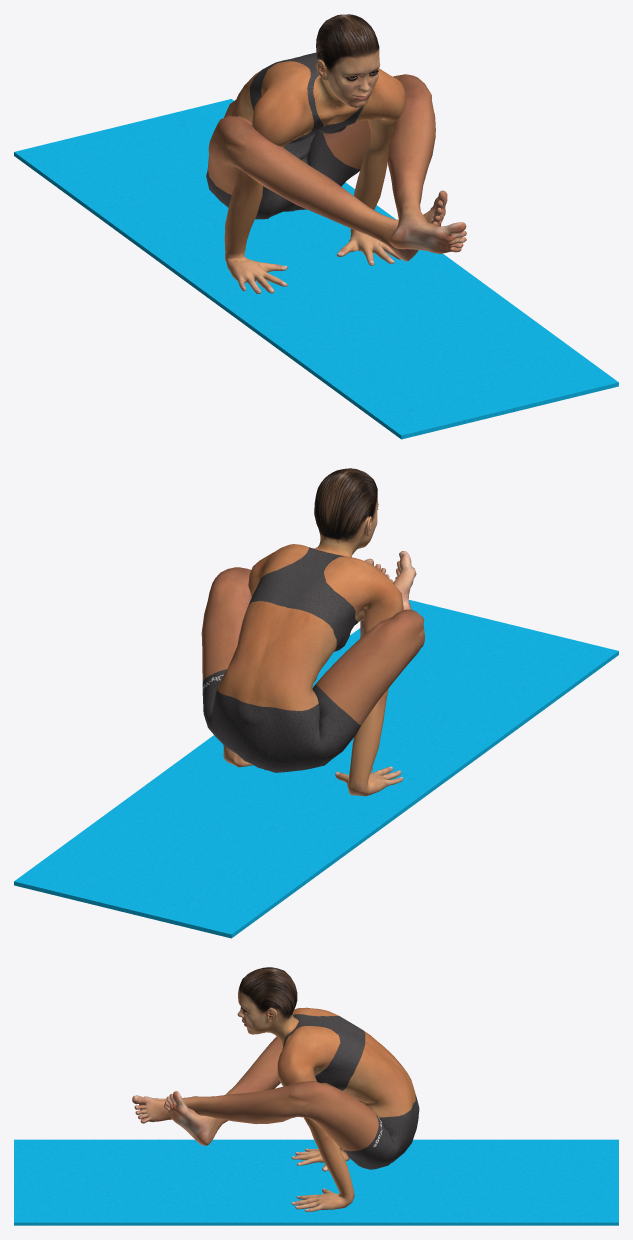
The model's file is bhujapidasana.glb.
3 renders of one model, top to bottom at view 1: azimuth 30°, elevation 25°; view 2: azimuth 150°, elevation 25°; view 3: azimuth 270°, elevation 25°, orthographic. The views are drawn at different scales.
Parts seen in each view (by area): view 1: Mat-one-piece_jpg-material, Lily_Texture01_06_2016_jpg-material; view 2: Mat-one-piece_jpg-material, Lily_Texture01_06_2016_jpg-material; view 3: Mat-one-piece_jpg-material, Lily_Texture01_06_2016_jpg-material.
Boxes of the visible parts, <box> form: Mat-one-piece_jpg-material: <box>14,99,618,439</box>; Lily_Texture01_06_2016_jpg-material: <box>206,14,466,293</box>; Mat-one-piece_jpg-material: <box>14,600,618,938</box>; Lily_Texture01_06_2016_jpg-material: <box>201,468,424,796</box>; Mat-one-piece_jpg-material: <box>14,1139,618,1225</box>; Lily_Texture01_06_2016_jpg-material: <box>132,967,419,1212</box>.
Size of the model in its own units: 2 by 2.42 by 6.17.
Materials: 3 (2 with a texture image).
